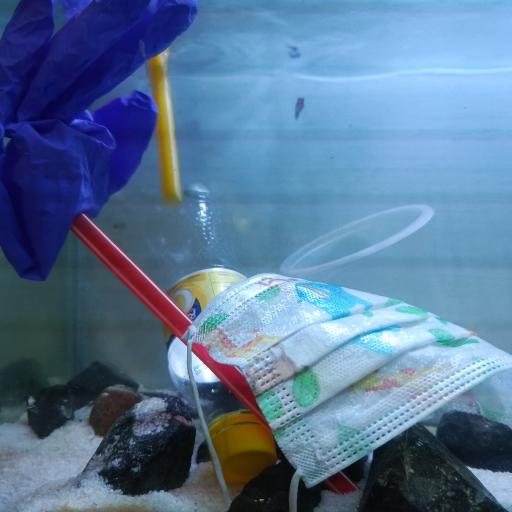bottle_cap: (208, 427, 276, 481)
glove: (4, 0, 194, 283)
mask: (182, 267, 512, 502)
plastic_bottle: (136, 181, 278, 481)
plastic_cup: (280, 200, 457, 312)
plastic_straw: (68, 210, 356, 494), (146, 53, 187, 207)
